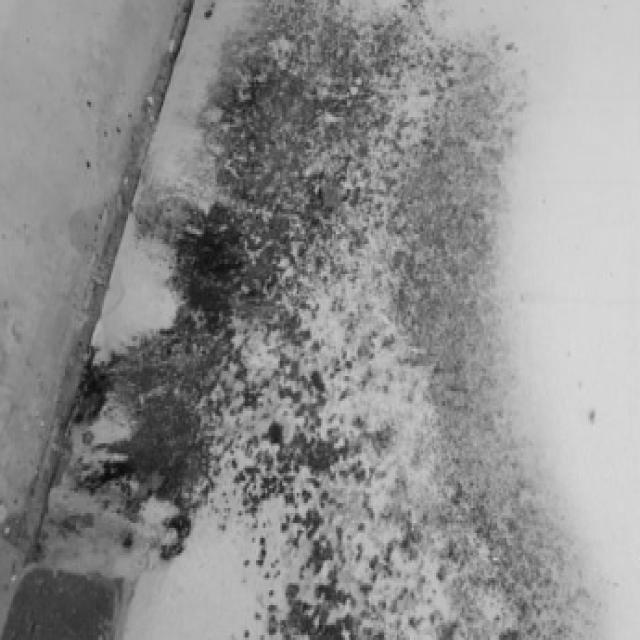stain marks: (0, 0, 577, 599), (198, 536, 603, 638)
